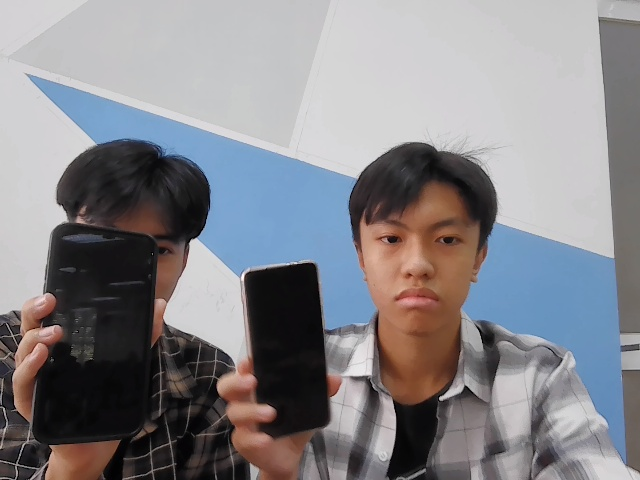human: (349, 138, 495, 337)
phone: (32, 223, 152, 436), (238, 259, 337, 437)
